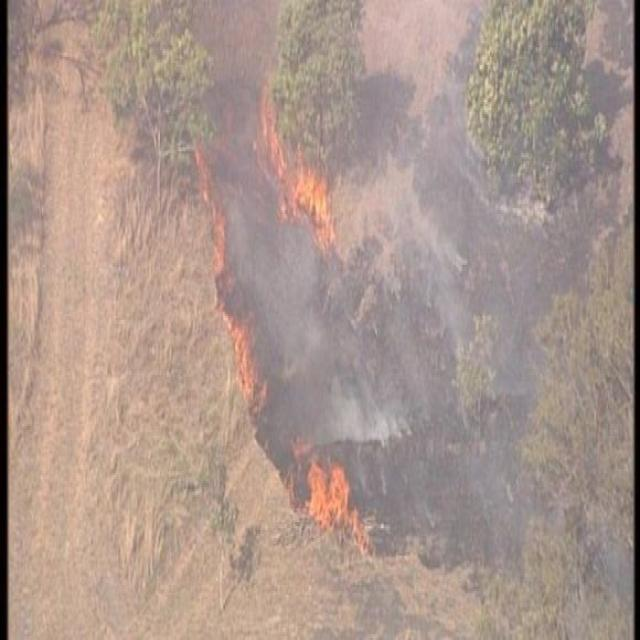Fire: (186, 66, 384, 552)
